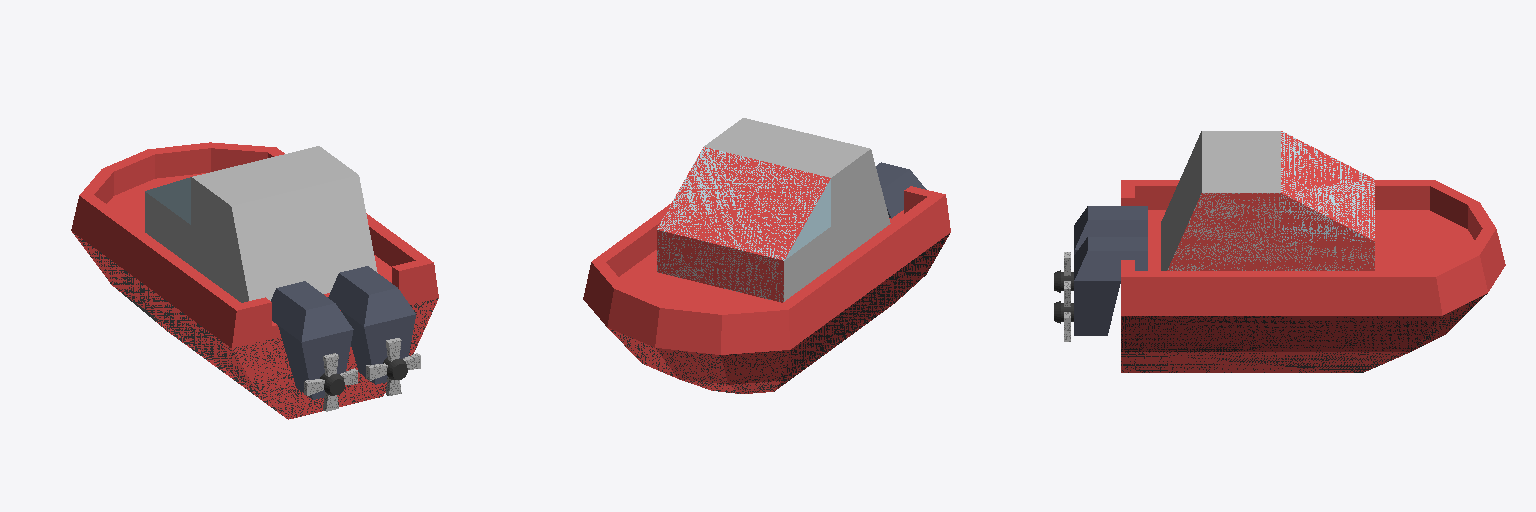
File: boat_008.obj
The picture shows the model from 3 angles: view 1: azimuth 30°, elevation 25°; view 2: azimuth 150°, elevation 25°; view 3: azimuth 270°, elevation 25°; orthographic projection.
Visible parts, largest first — view 1: boat_008, Group; view 2: boat_008, Group; view 3: boat_008, Group.
Part boxes in pixels (x1,y1,x2,y2): boat_008: (71, 142, 438, 419); Group: (271, 266, 420, 411); boat_008: (583, 118, 950, 393); Group: (876, 162, 926, 218); boat_008: (1121, 131, 1505, 372); Group: (1054, 206, 1147, 341).
Bounding box in the file's own units: 1.78 × 1.55 × 3.37.